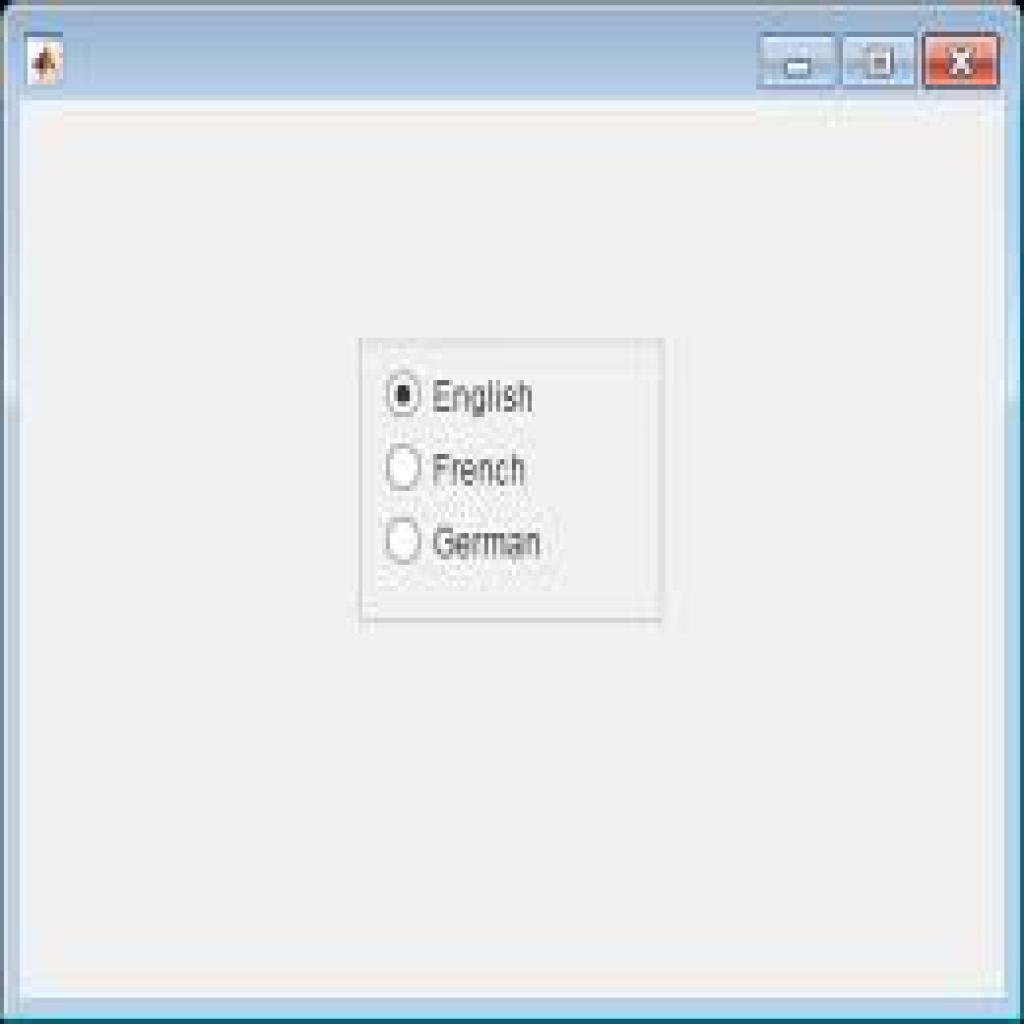label: (434, 517, 545, 567), (430, 373, 541, 417), (434, 444, 531, 493)
radio: (383, 442, 423, 493), (385, 514, 425, 565), (384, 371, 423, 422)
